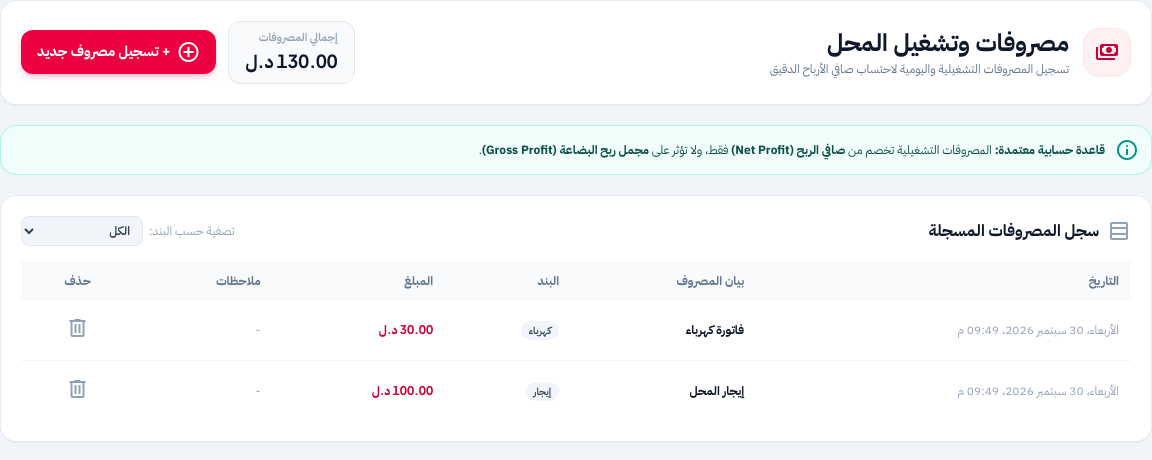
ExpensesView - totals and filtering › narrows both the rows and the headline to the selected category
This screenshot has width=1152, height=460.
Select "إيجار" in the dropdown named "تصفية حسب البند" at coordinates (82, 230), box [21,216,143,246]
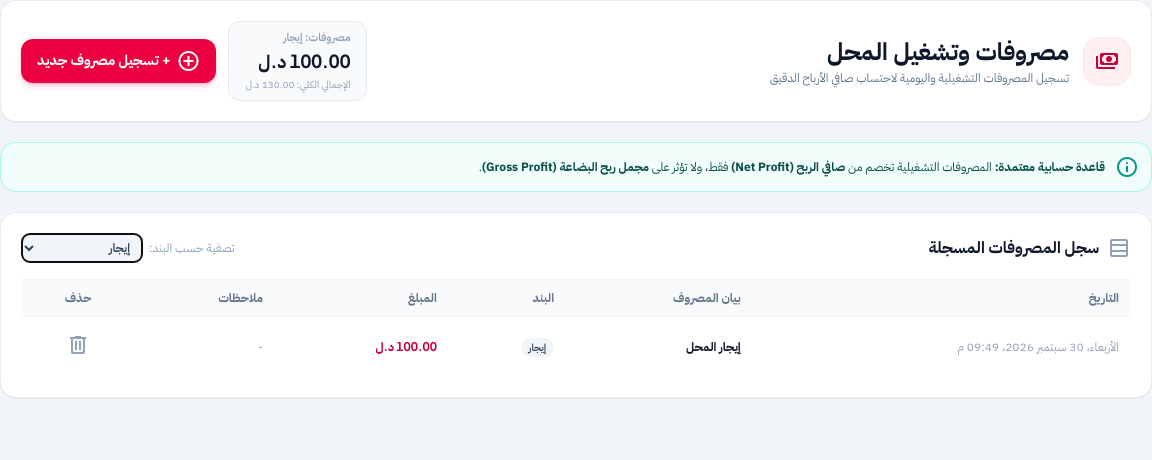
Expected: the text "إيجار المحل" is shown, [686,338,741,356]
Expected: the cell "فاتورة كهرباء" is gone
Expected: the text "مصروفات: إيجار" shows "100.00 د.ل", [258,48,350,72]
